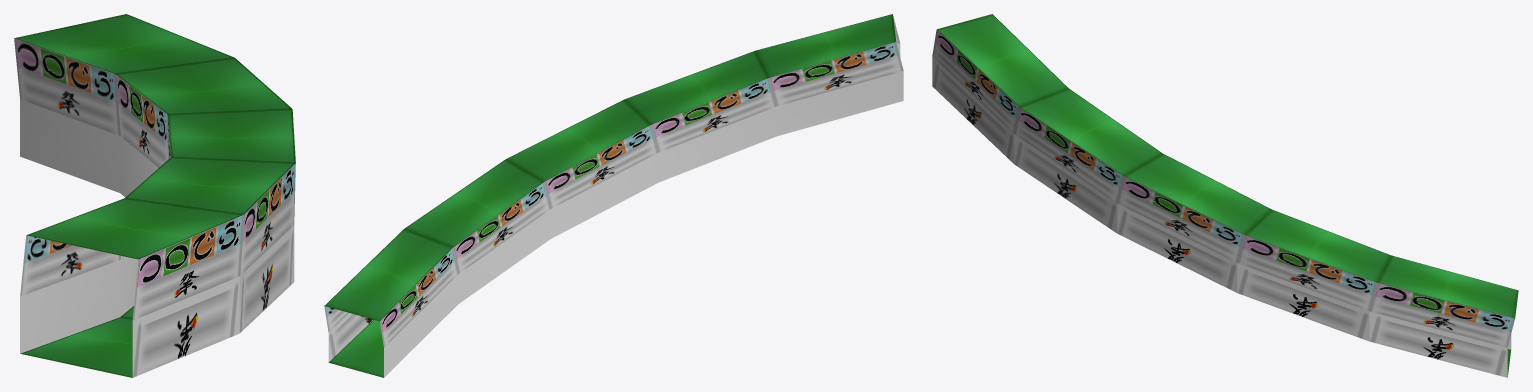
File: CourseSummer_Wall_L_4.fbx
The picture shows the model from 3 angles, left to right: view 1: azimuth 30°, elevation 25°; view 2: azimuth 150°, elevation 25°; view 3: azimuth 270°, elevation 25°; orthographic projection. The views are drawn at different scales.
Visible parts, largest first — view 1: polySurface57; view 2: polySurface57; view 3: polySurface57.
Boxes of the visible parts, x1,y1,x2,y2 form: polySurface57: (14,14,295,377); polySurface57: (324,14,903,377); polySurface57: (932,14,1518,377).
Bounding box in the file's own units: 11.07 × 6.97 × 17.58.
Materials: 1 (1 with a texture image).
